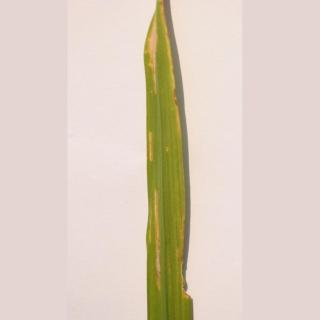Hawar-Daun: (143, 183, 170, 279), (174, 210, 192, 315), (144, 2, 164, 92), (141, 123, 160, 172), (168, 70, 182, 126)
